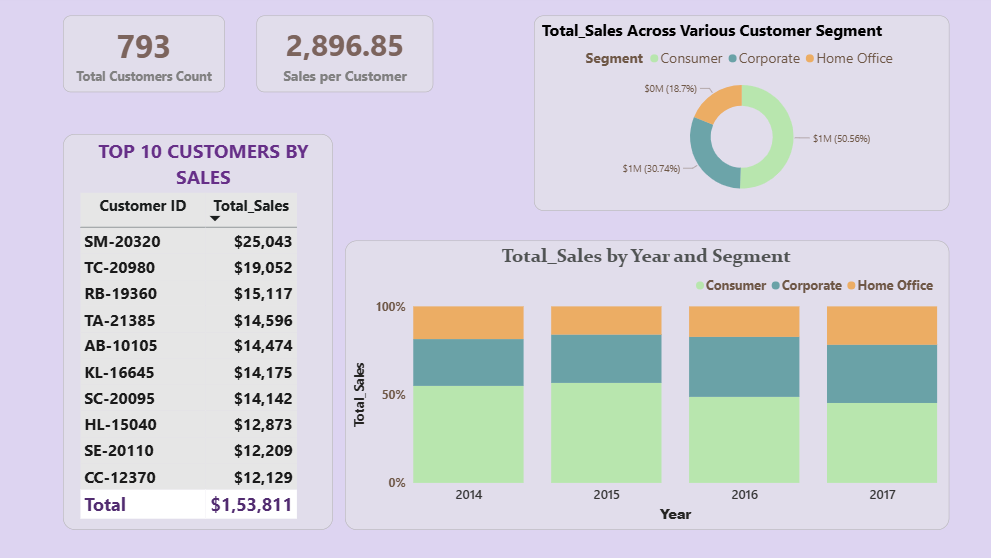

This screenshot's page, from the dashboard's own definition file:
{"tool":"powerbi","page":{"name":"Customer Analysis","canvas":[1280,720],"ordinal":2},"visuals":[{"type":"tableEx","title":"TOP 10 CUSTOMERS BY SALES","fields":{"Values":["Dim_Customer.Customer ID","Measures_table.Total_Sales"]},"box":[94.5,177.6,340.2,498.9],"z":0},{"type":"card","fields":{"Values":["Measures_table.Total Customers Count"]},"box":[94.5,28.3,204.1,96.4],"z":1000},{"type":"card","fields":{"Values":["Measures_table.Sales per Customer"]},"box":[338.3,28.3,223,96.4],"z":2000},{"type":"hundredPercentStackedColumnChart","fields":{"Category":["Dim_Date.Year"],"Series":["Dim_Customer.Segment"],"Y":["Measures_table.Total_Sales"]},"box":[449.8,311.8,761.6,364.7],"z":3000},{"type":"donutChart","title":"Total_Sales Across Various Customer Segment","fields":{"Y":["Measures_table.Total_Sales"],"Category":["Dim_Customer.Segment"]},"box":[687.9,28.3,523.5,245.7],"z":5000}]}

Visuals, with their boxes in screenshot pixels (x1, y1, x2, y2), scaled from the page's 1280x720 canvas onto the 991x558 screenshot:
"TOP 10 CUSTOMERS BY SALES" tableEx: (left=73, top=138, right=337, bottom=524)
card - Measures_table.Total Customers Count: (left=73, top=22, right=231, bottom=97)
card - Measures_table.Sales per Customer: (left=262, top=22, right=435, bottom=97)
hundredPercentStackedColumnChart - Dim_Date.Year x Dim_Customer.Segment: (left=348, top=242, right=938, bottom=524)
"Total_Sales Across Various Customer Segment" donutChart: (left=533, top=22, right=938, bottom=212)
